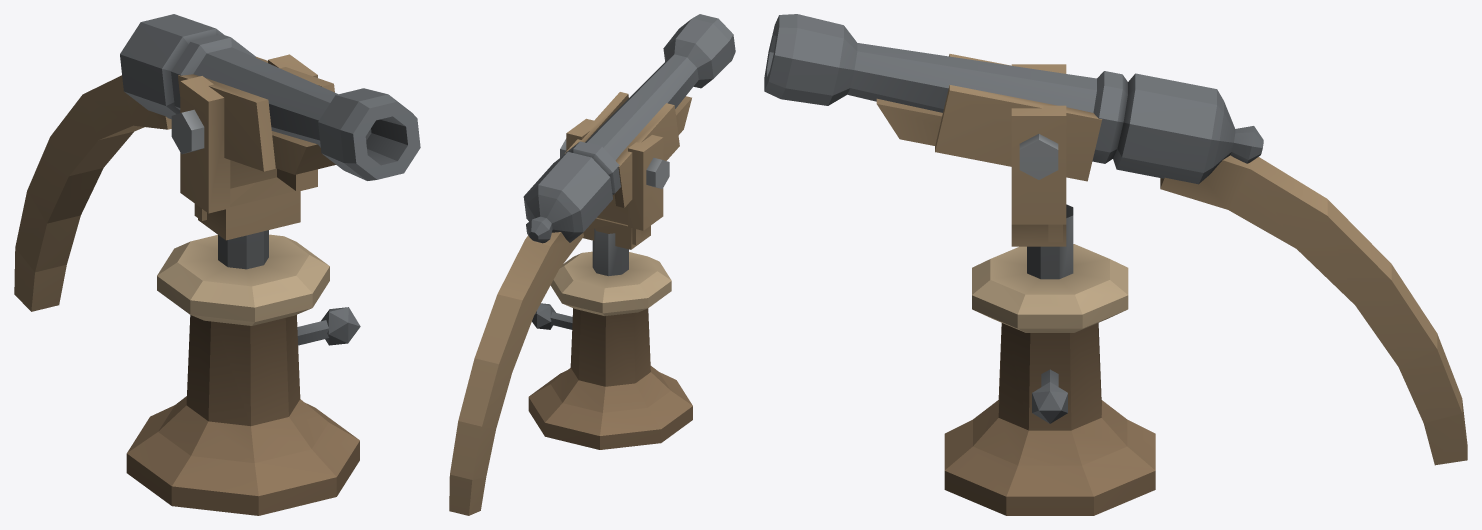
The model's file is swivel.glb.
3 renders of one model, left to right at view 1: azimuth 30°, elevation 25°; view 2: azimuth 150°, elevation 25°; view 3: azimuth 270°, elevation 25°, orthographic. The views are drawn at different scales.
Visible parts, largest first — view 1: swivel; view 2: swivel; view 3: swivel.
Boxes of the visible parts, <box> form: swivel: <box>14,14,420,515</box>; swivel: <box>449,14,735,515</box>; swivel: <box>764,14,1467,515</box>.
Size of the model in its own units: 0.4137 by 0.8918 by 1.26.
